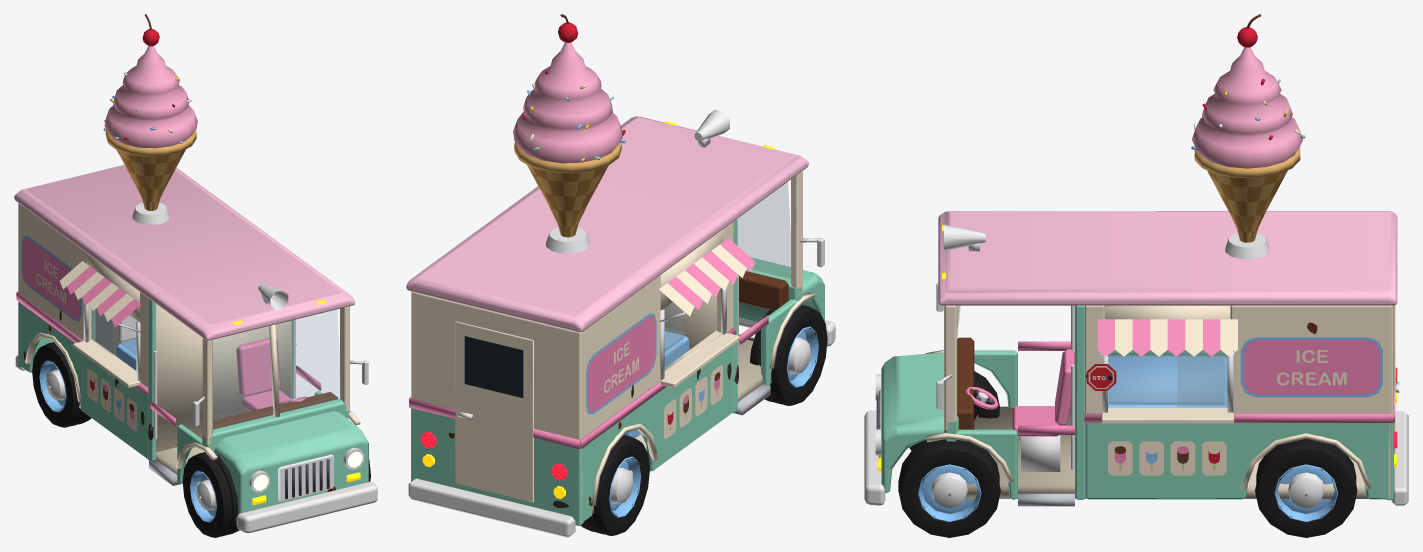
File: ice_cream_truck.glb
3 views of the same model, side by side, from view 1: azimuth 30°, elevation 25°; view 2: azimuth 150°, elevation 25°; view 3: azimuth 270°, elevation 25° (orthographic). The views are drawn at different scales.
Visible parts, largest first — view 1: Body, WheelFR, WheelRR; view 2: Body, WheelFR, WheelRR; view 3: Body, WheelFL, WheelRL.
Part boxes in pixels (<box>): Body: <box>14,14,377,533</box>; WheelFR: <box>182,452,239,537</box>; WheelRR: <box>32,342,91,427</box>; Body: <box>406,14,835,537</box>; WheelFR: <box>749,305,827,405</box>; WheelRR: <box>580,435,649,535</box>; Body: <box>864,14,1408,506</box>; WheelFL: <box>898,439,1000,537</box>; WheelRL: <box>1255,438,1357,537</box>.
Bounding box in the file's own units: 1.38 × 2.81 × 2.87.
